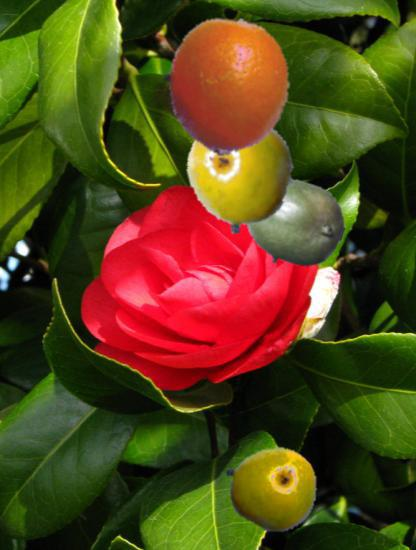Mango: (243, 174, 344, 275)
Maracuja: (184, 116, 299, 231), (226, 443, 319, 536)
Tangelo: (156, 17, 297, 158)
